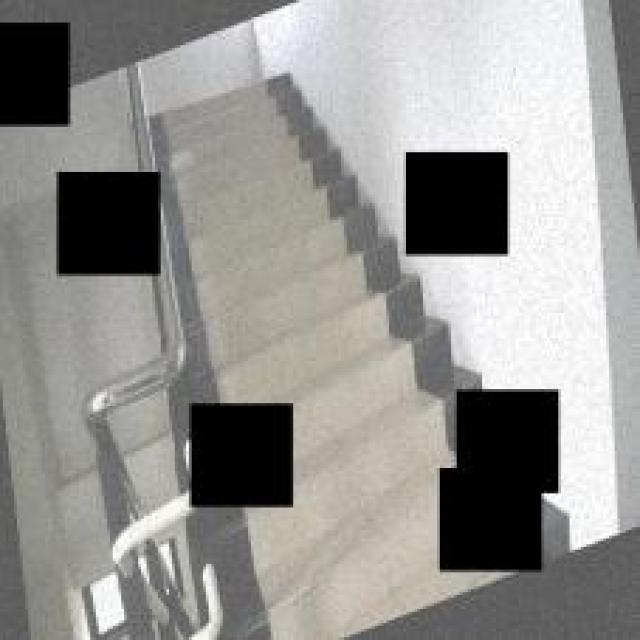upstair: (163, 110, 394, 369)
